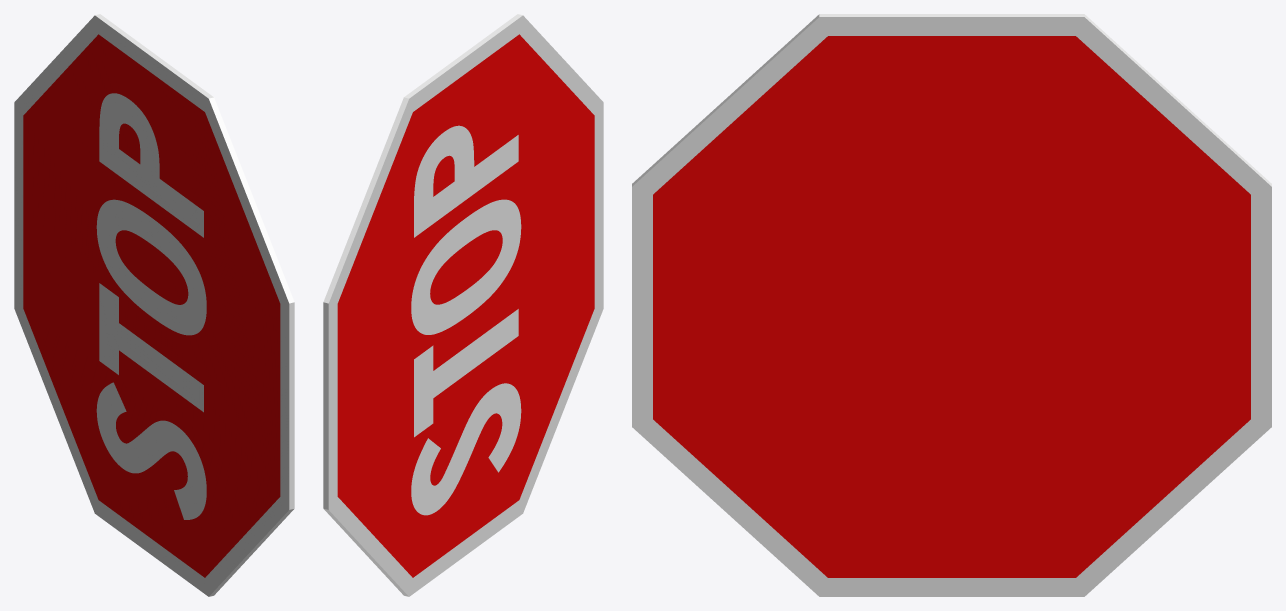
The model's file is stopsign.fbx.
3 views of the same model, side by side, from view 1: azimuth 30°, elevation 25°; view 2: azimuth 150°, elevation 25°; view 3: azimuth 270°, elevation 25° (orthographic). The views are drawn at different scales.
Visible parts, largest first — view 1: Sign; view 2: Sign; view 3: Sign.
Boxes of the visible parts, <box> form: Sign: <box>14,14,294,596</box>; Sign: <box>323,14,603,596</box>; Sign: <box>632,14,1271,596</box>.
Bounding box in the file's own units: 22.17 × 0.2512 × 22.17.
